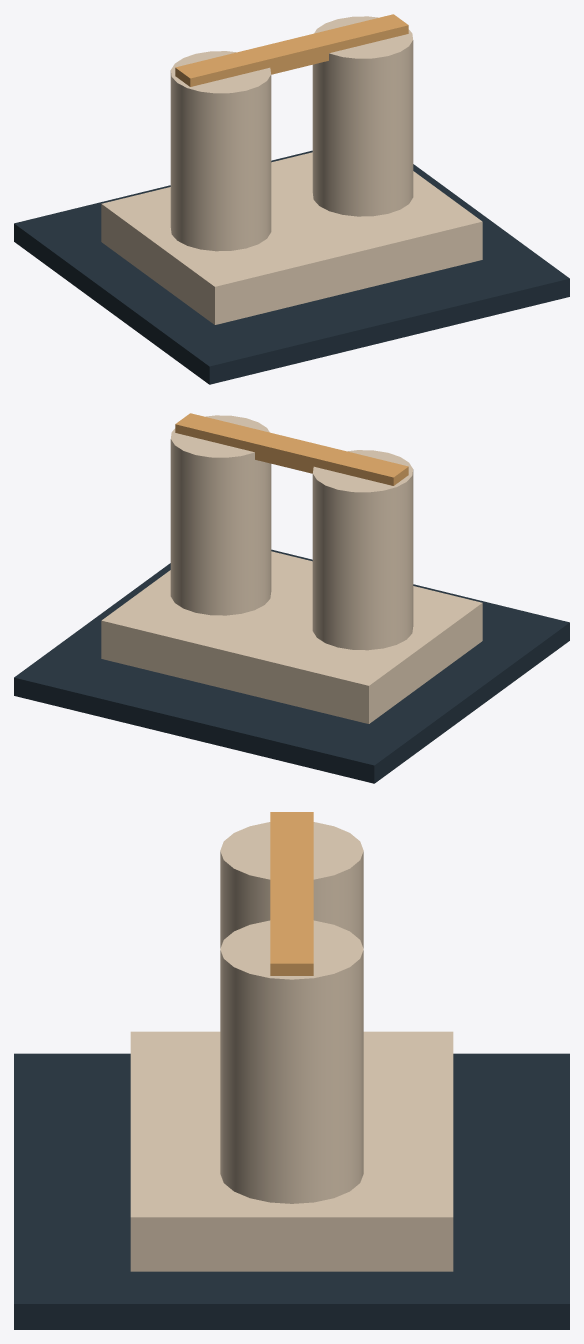
The model's file is oxygenUnit.glb.
3 renders of one model, top to bottom at view 1: azimuth 30°, elevation 25°; view 2: azimuth 150°, elevation 25°; view 3: azimuth 270°, elevation 25°, orthographic. The views are drawn at different scales.
Parts seen in each view (by area): view 1: oxygenUnit; view 2: oxygenUnit; view 3: oxygenUnit.
Part boxes in pixels (x1,y1,x2,y2): oxygenUnit: (14, 14, 569, 384); oxygenUnit: (14, 413, 569, 783); oxygenUnit: (14, 812, 569, 1329).
Bounding box in the file's own units: 3.3 × 1.95 × 3.1.
